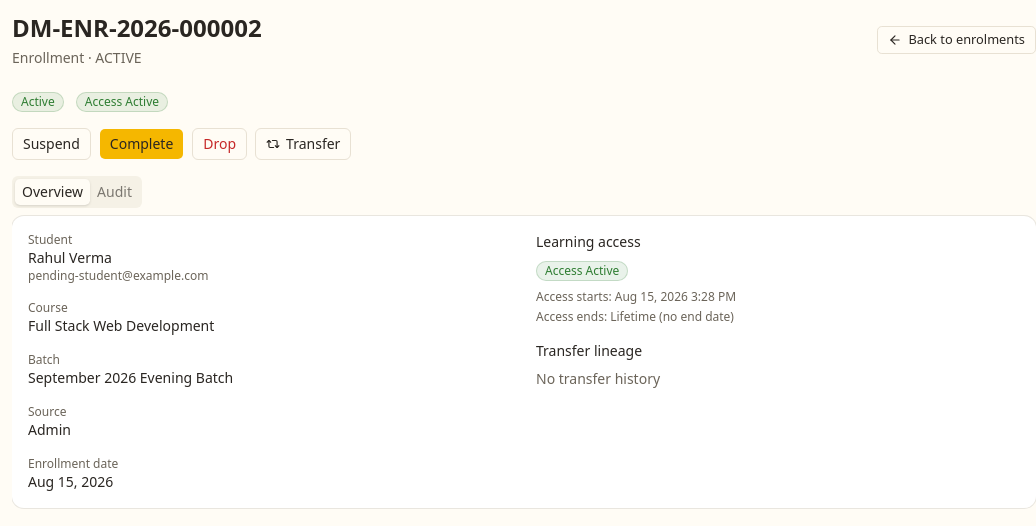
Test: EnrollmentDetailPage › completes an ACTIVE enrollment and releases its seat
Expected: the heading "DM-ENR-2026-000002" is shown, [12,12,262,44]
Click the button "Complete". click: [142, 144]
box: [99,128,184,160]
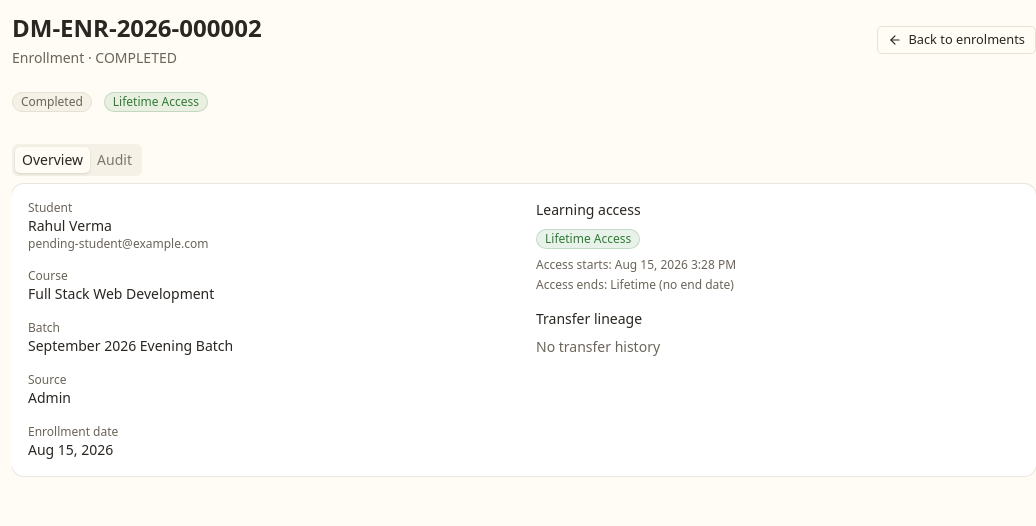
Expected: the text "Completed" is shown, [12,92,92,112]
